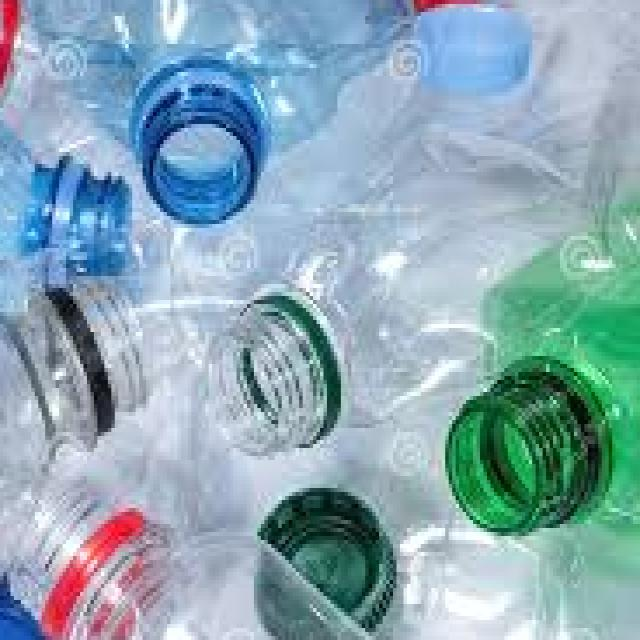organic: (8, 7, 624, 628)
